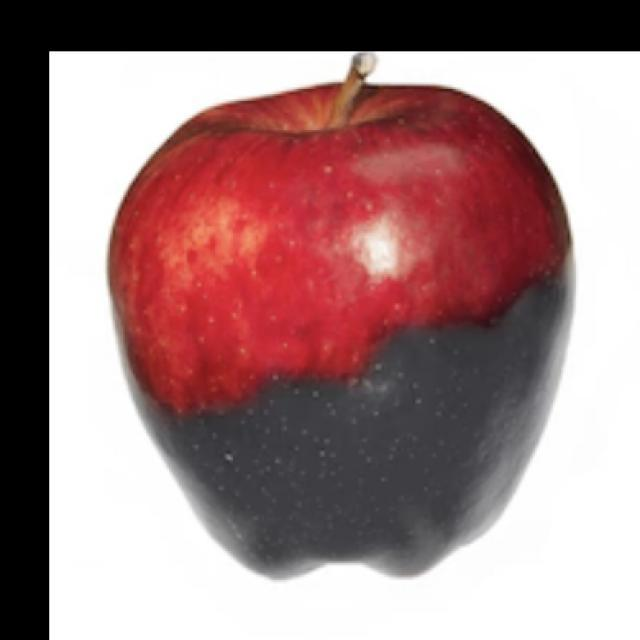Rotten: (113, 74, 579, 582)
